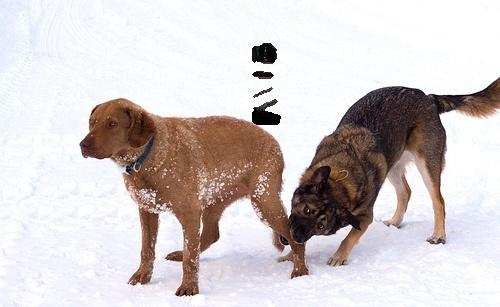tampered: (253, 44, 281, 125)
